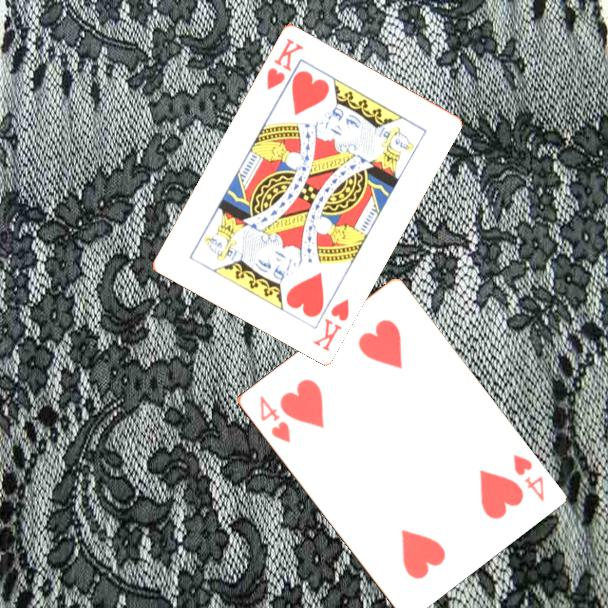h04: (509, 451, 547, 505), (255, 392, 293, 445)
h13: (263, 34, 306, 93), (309, 294, 352, 353)
